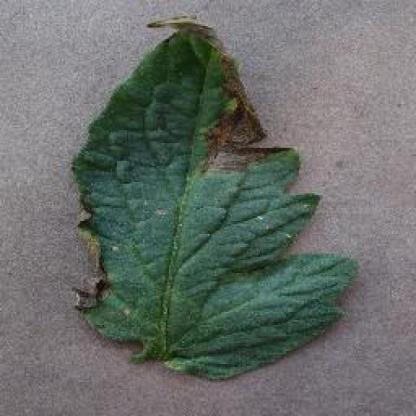Tomato_Blight: (70, 14, 356, 375)
